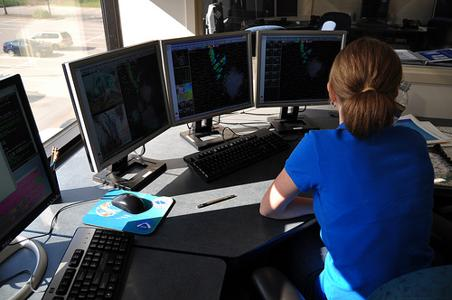person: (259, 35, 440, 300)
